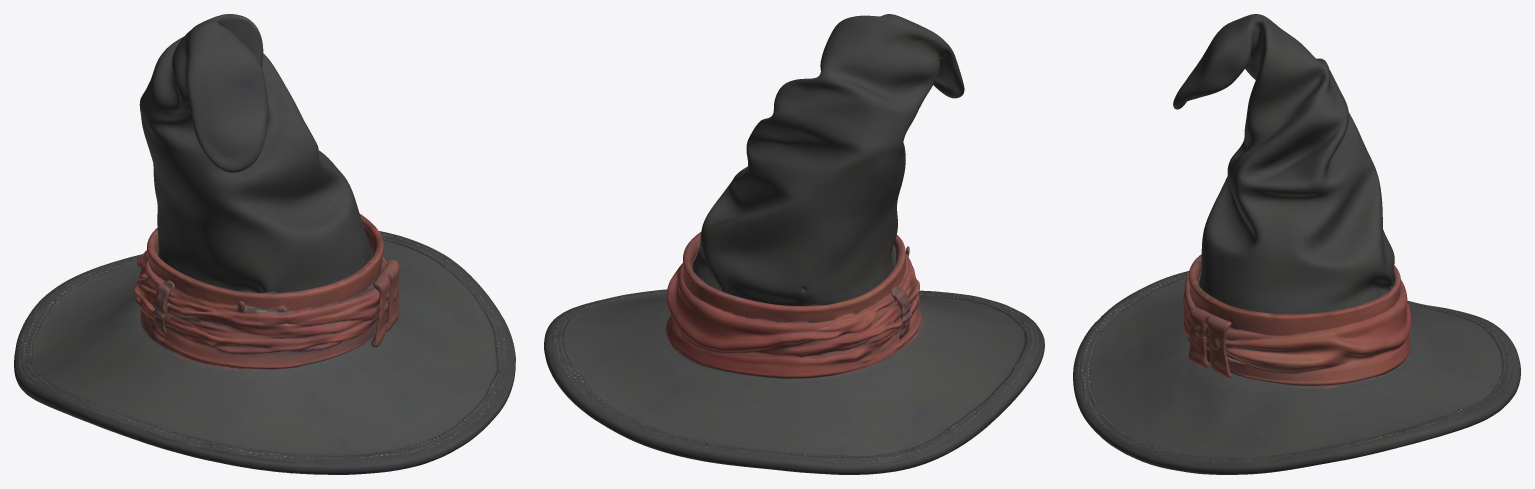
The model's file is detailed_realistic_model_sorting_01.glb.
3 renders of one model, left to right at view 1: azimuth 30°, elevation 25°; view 2: azimuth 150°, elevation 25°; view 3: azimuth 270°, elevation 25°, orthographic. The views are drawn at different scales.
Parts seen in each view (by area): view 1: tripo_node_aee3a8ea-c2d8-474e-9c7f-a531cf18646d; view 2: tripo_node_aee3a8ea-c2d8-474e-9c7f-a531cf18646d; view 3: tripo_node_aee3a8ea-c2d8-474e-9c7f-a531cf18646d.
Part boxes in pixels (box(x1,y1,x2,y2)): tripo_node_aee3a8ea-c2d8-474e-9c7f-a531cf18646d: box(14, 14, 515, 474); tripo_node_aee3a8ea-c2d8-474e-9c7f-a531cf18646d: box(544, 14, 1044, 474); tripo_node_aee3a8ea-c2d8-474e-9c7f-a531cf18646d: box(1073, 14, 1520, 474).
Size of the model in its own units: 1 by 0.868 by 0.9968.
1 material, 1 textured.
